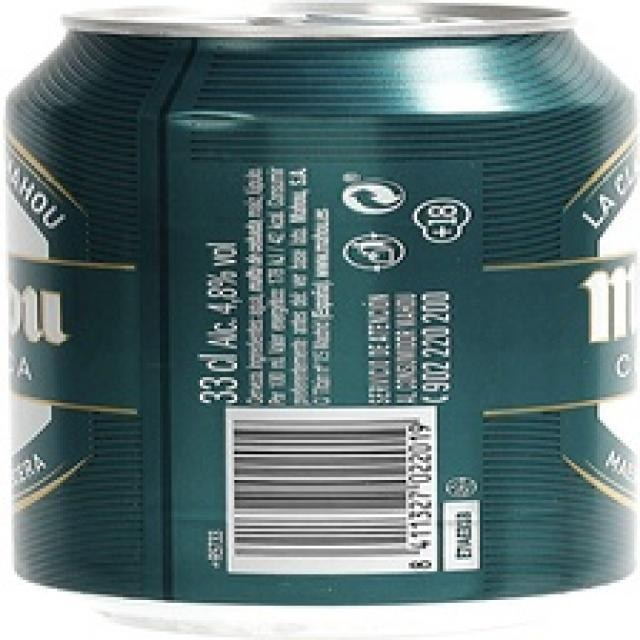recyclable: (0, 14, 640, 602)
